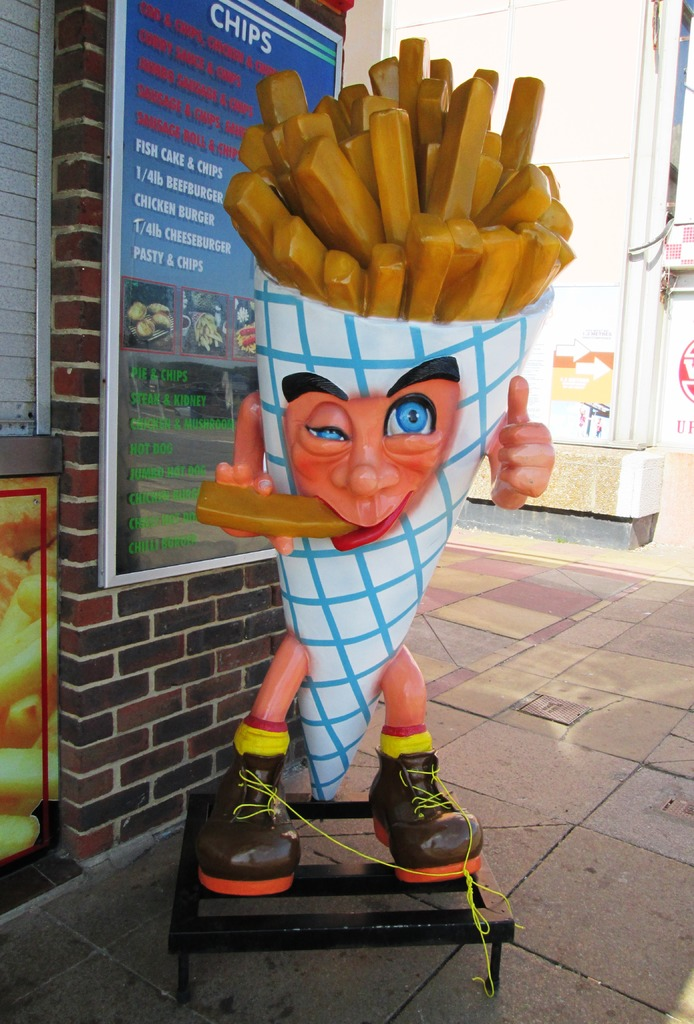French fries: (252, 68, 575, 301)
